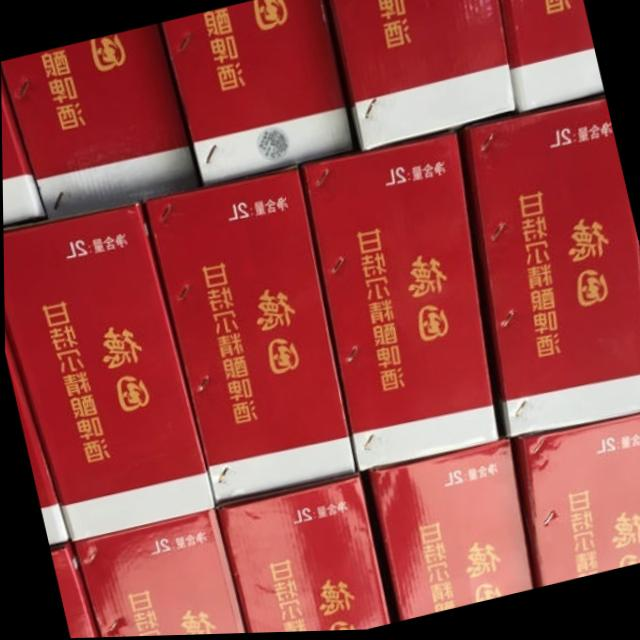box: (3, 203, 213, 542), (144, 169, 354, 504), (303, 136, 496, 473), (464, 104, 640, 441), (1, 23, 198, 220), (162, 0, 352, 187), (368, 439, 530, 623), (325, 0, 517, 153), (217, 477, 388, 634), (72, 510, 242, 638), (519, 416, 640, 590), (4, 327, 69, 548), (499, 0, 603, 116), (1, 73, 44, 224), (50, 546, 95, 639)
